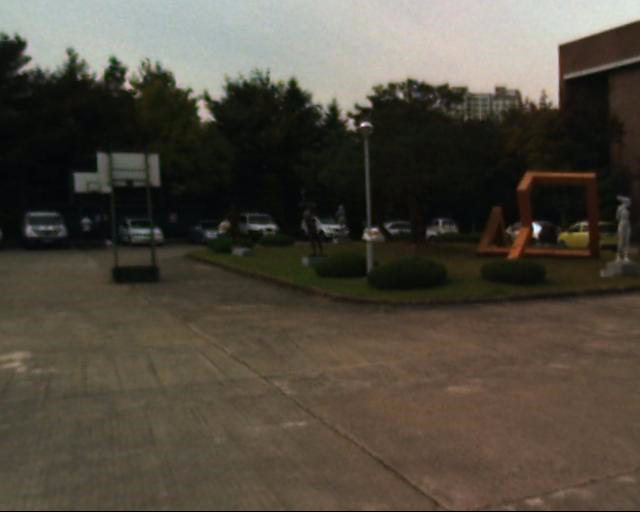person: (584, 191, 633, 280), (284, 196, 330, 268), (200, 195, 240, 262)
